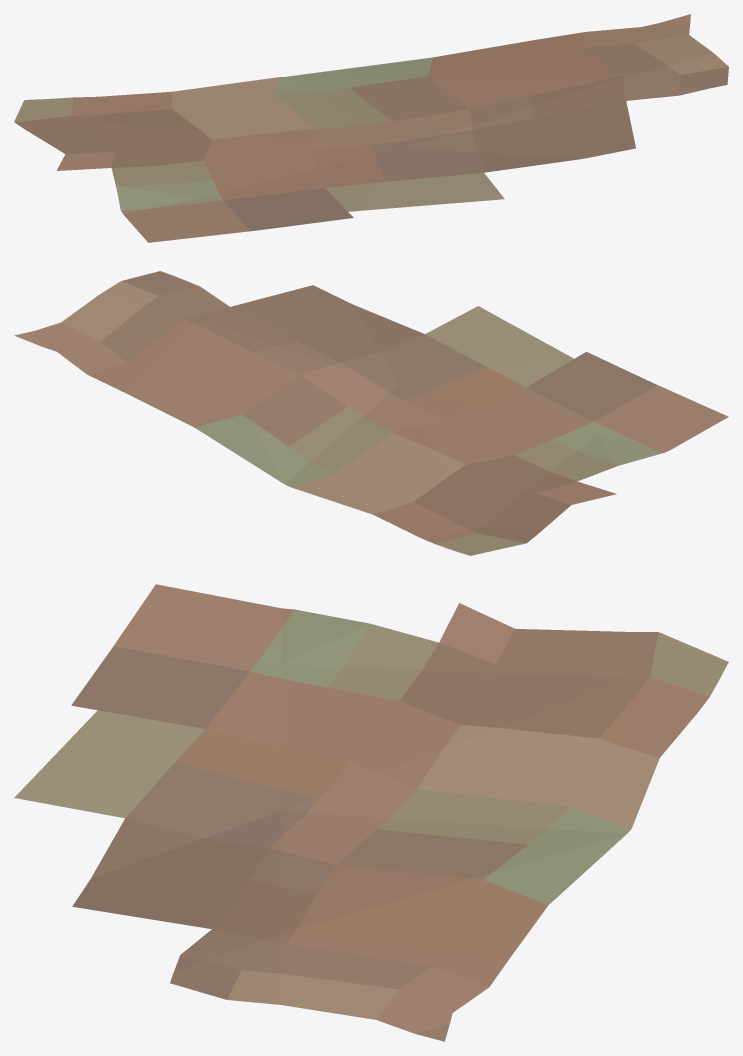
The model's file is farm_-19_-31_soil.glb.
The picture shows the model from 3 angles, top to bottom: view 1: azimuth 30°, elevation 25°; view 2: azimuth 150°, elevation 25°; view 3: azimuth 270°, elevation 25°; orthographic projection. The views are drawn at different scales.
Parts seen in each view (by area): view 1: geometry_0; view 2: geometry_0; view 3: geometry_0.
Part boxes in pixels (x1,y1,x2,y2): geometry_0: (14,14,728,242); geometry_0: (14,271,728,555); geometry_0: (14,584,728,1041).
Size of the model in its own units: 250 by 13.69 by 165.
